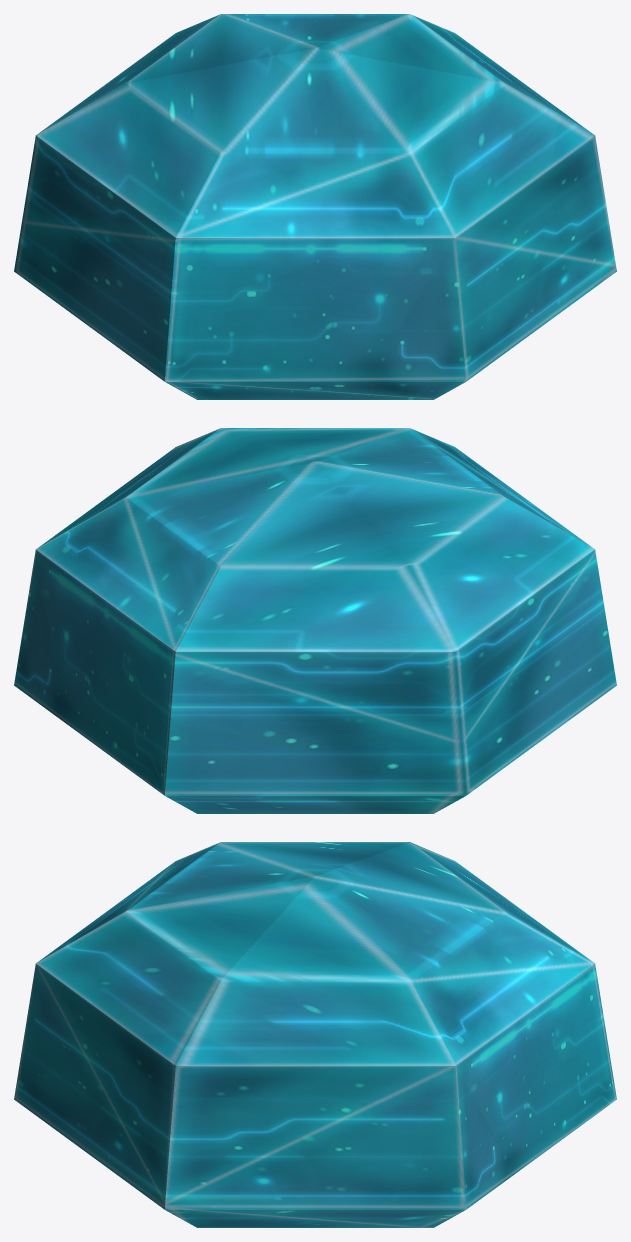
The model's file is ring_zhuan.FBX.
3 renders of one model, top to bottom at view 1: azimuth 30°, elevation 25°; view 2: azimuth 150°, elevation 25°; view 3: azimuth 270°, elevation 25°, orthographic.
Visible parts, largest first — view 1: ring_zhuan; view 2: ring_zhuan; view 3: ring_zhuan.
Part boxes in pixels (x1,y1,x2,y2): ring_zhuan: (14, 14, 616, 399); ring_zhuan: (14, 428, 616, 813); ring_zhuan: (14, 842, 616, 1227).
Size of the model in its own units: 542 by 304 by 626.
Materials: 1 (1 with a texture image).
